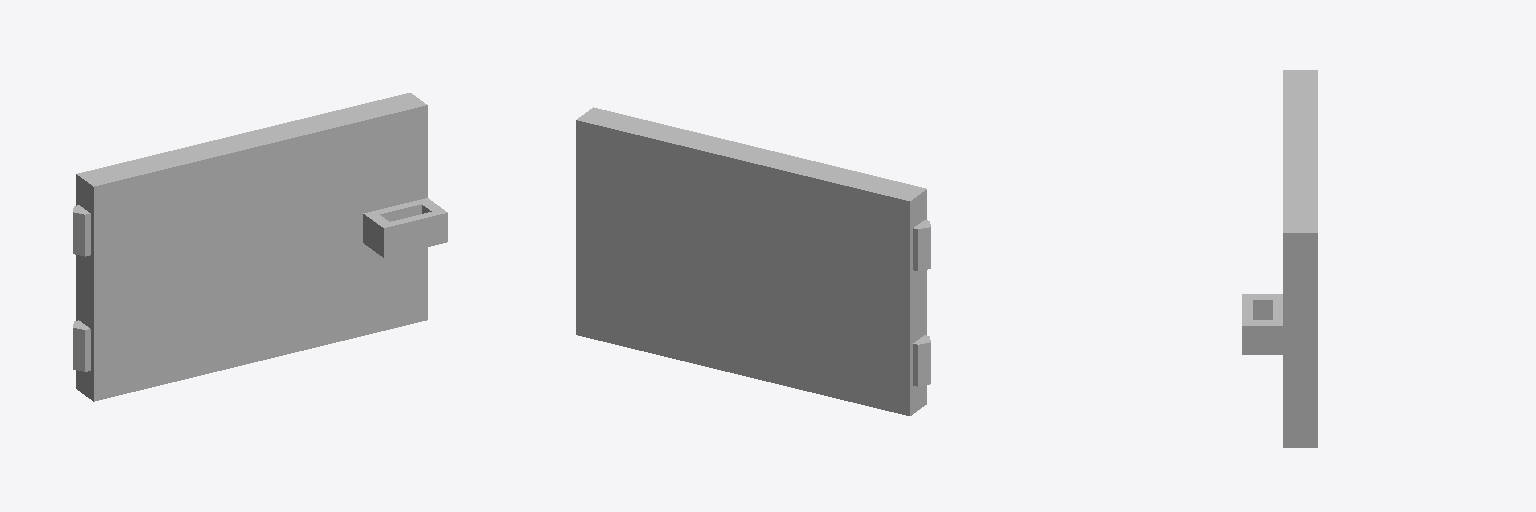
Rendered from control_panel_door.obj.
3 renders of one model, left to right at view 1: azimuth 30°, elevation 25°; view 2: azimuth 150°, elevation 25°; view 3: azimuth 270°, elevation 25°, orthographic.
Parts seen in each view (by area): view 1: Control_Panel_door.001; view 2: Control_Panel_door.001; view 3: Control_Panel_door.001.
Part boxes in pixels (left/top/right/bottom): Control_Panel_door.001: left=73, top=93, right=447, bottom=401; Control_Panel_door.001: left=576, top=107, right=930, bottom=415; Control_Panel_door.001: left=1242, top=70, right=1317, bottom=447.
Bounding box in the file's own units: 0.6508 × 0.3861 × 0.1224.